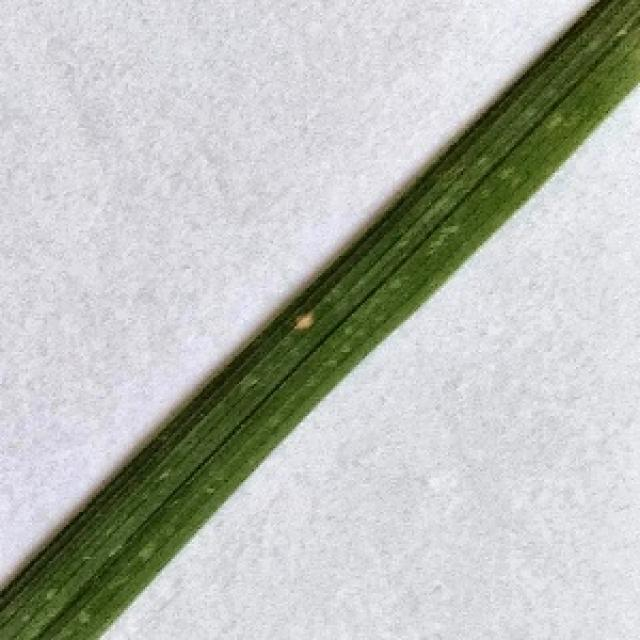Leaf_Blast: (274, 278, 348, 340)
